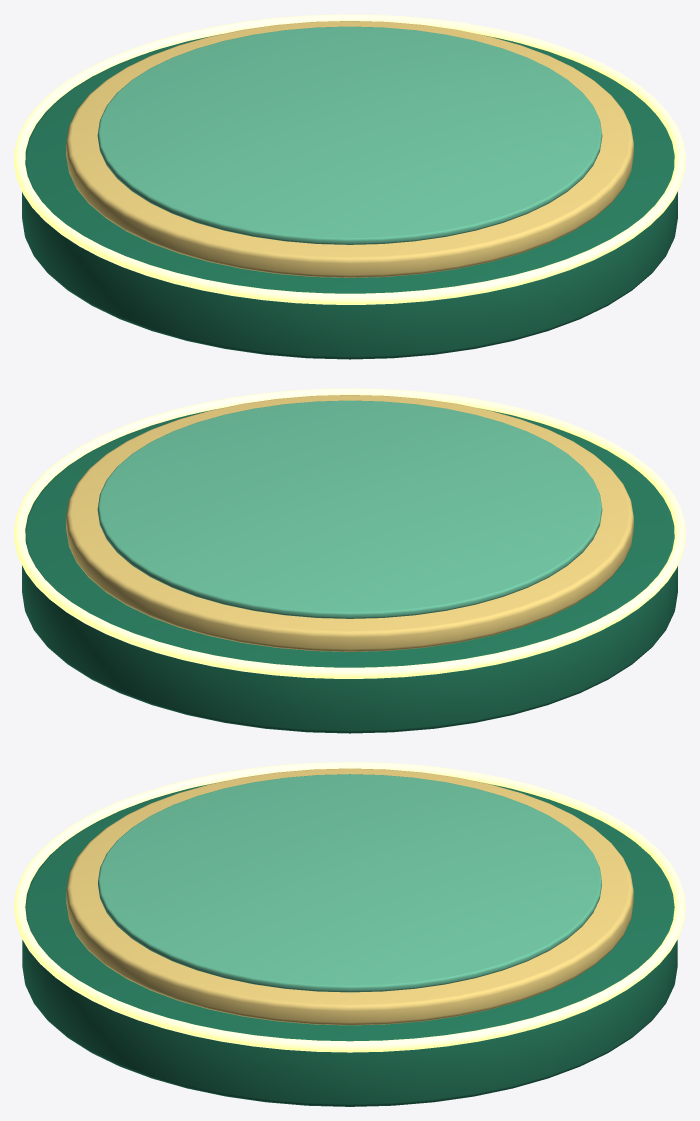
Rendered from podium-worldcup-medium.glb.
3 views of the same model, one above another, from view 1: azimuth 30°, elevation 25°; view 2: azimuth 150°, elevation 25°; view 3: azimuth 270°, elevation 25° (orthographic).
Parts seen in each view (by area): view 1: deck, base, top, Torus; view 2: deck, base, top, Torus; view 3: deck, base, top, Torus.
Boxes of the visible parts, x1=… form: deck: x1=97, y1=26, x2=602, y2=244; base: x1=22, y1=34, x2=677, y2=359; top: x1=66, y1=21, x2=633, y2=277; Torus: x1=14, y1=14, x2=685, y2=304; deck: x1=97, y1=400, x2=602, y2=618; base: x1=22, y1=408, x2=677, y2=733; top: x1=66, y1=395, x2=633, y2=651; Torus: x1=14, y1=388, x2=685, y2=678; deck: x1=98, y1=774, x2=601, y2=992; base: x1=22, y1=783, x2=677, y2=1106; top: x1=66, y1=768, x2=633, y2=1025; Torus: x1=14, y1=762, x2=685, y2=1052.
Size of the model in its own units: 5.33 by 0.7899 by 5.33.
